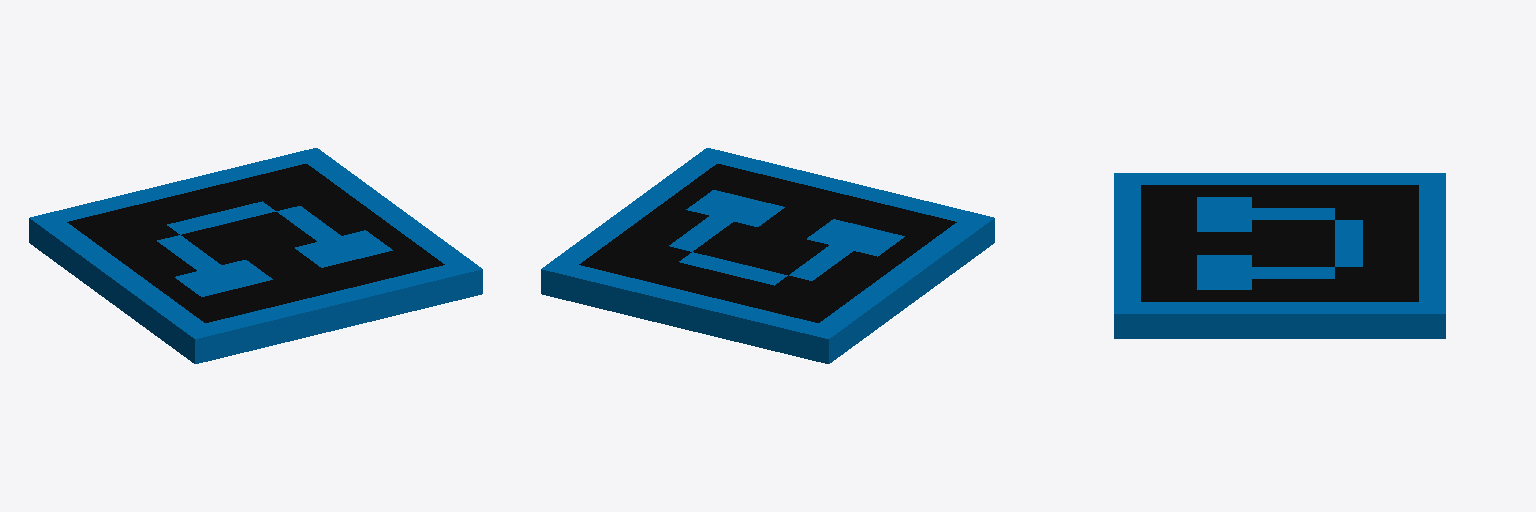
3 renders of one model, left to right at view 1: azimuth 30°, elevation 25°; view 2: azimuth 150°, elevation 25°; view 3: azimuth 270°, elevation 25°, orthographic.
Parts seen in each view (by area): view 1: Brick_blue; view 2: Brick_blue; view 3: Brick_blue.
Part boxes in pixels (bbox=[...]): Brick_blue: bbox=[29, 148, 482, 363]; Brick_blue: bbox=[541, 148, 994, 363]; Brick_blue: bbox=[1114, 173, 1445, 338].
Bounding box in the file's own units: 12 × 1 × 12.
1 materials, 1 textured.